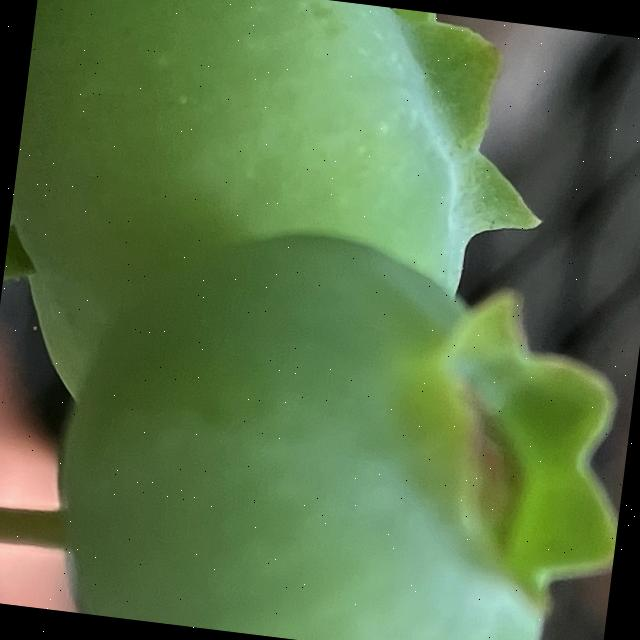Blueberries: (38, 204, 640, 640)
